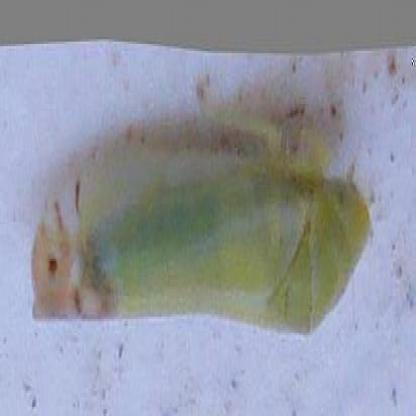green-leafhopper: (31, 136, 358, 335)
